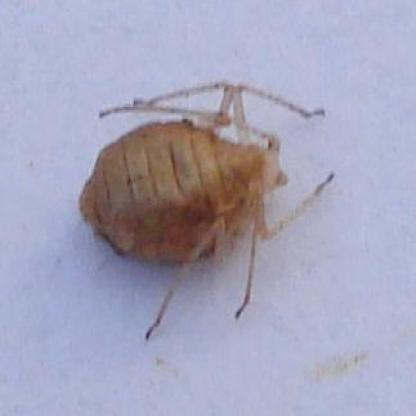aphid: (74, 75, 345, 330)
